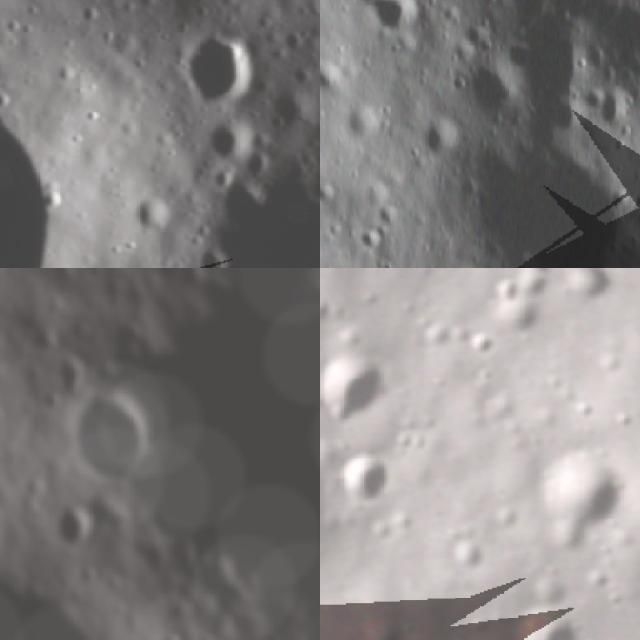crater: (0, 0, 129, 268), (159, 126, 320, 268), (158, 12, 269, 116), (532, 450, 637, 550), (64, 383, 164, 476), (320, 343, 380, 436), (194, 98, 264, 166), (474, 58, 519, 118), (517, 604, 588, 640), (336, 456, 384, 504), (55, 496, 92, 548), (365, 0, 416, 34), (449, 537, 488, 574), (600, 88, 631, 131), (415, 123, 452, 157), (491, 277, 520, 309), (465, 331, 489, 362), (40, 389, 62, 415), (613, 409, 638, 428), (576, 395, 592, 424), (157, 631, 191, 640), (0, 397, 4, 421)
